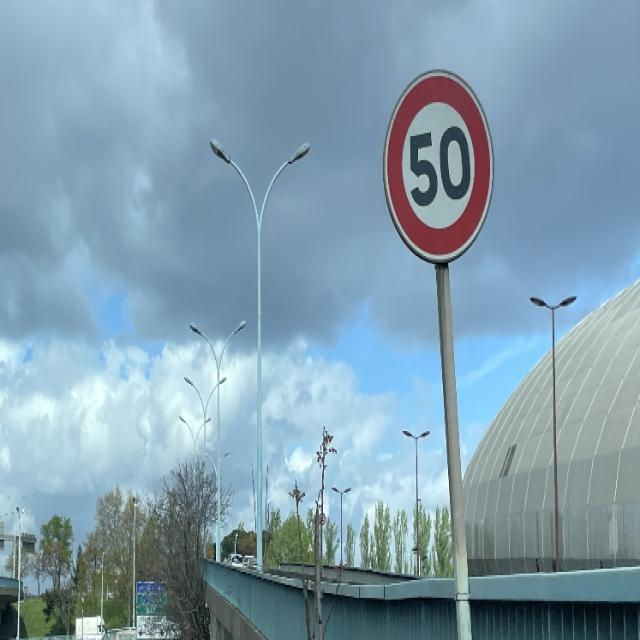speed_50: (383, 65, 496, 263)
